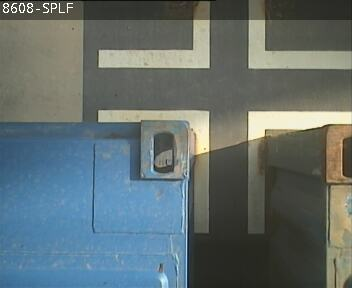groundmarker_1: (97, 110, 352, 232), (98, 1, 352, 69)
